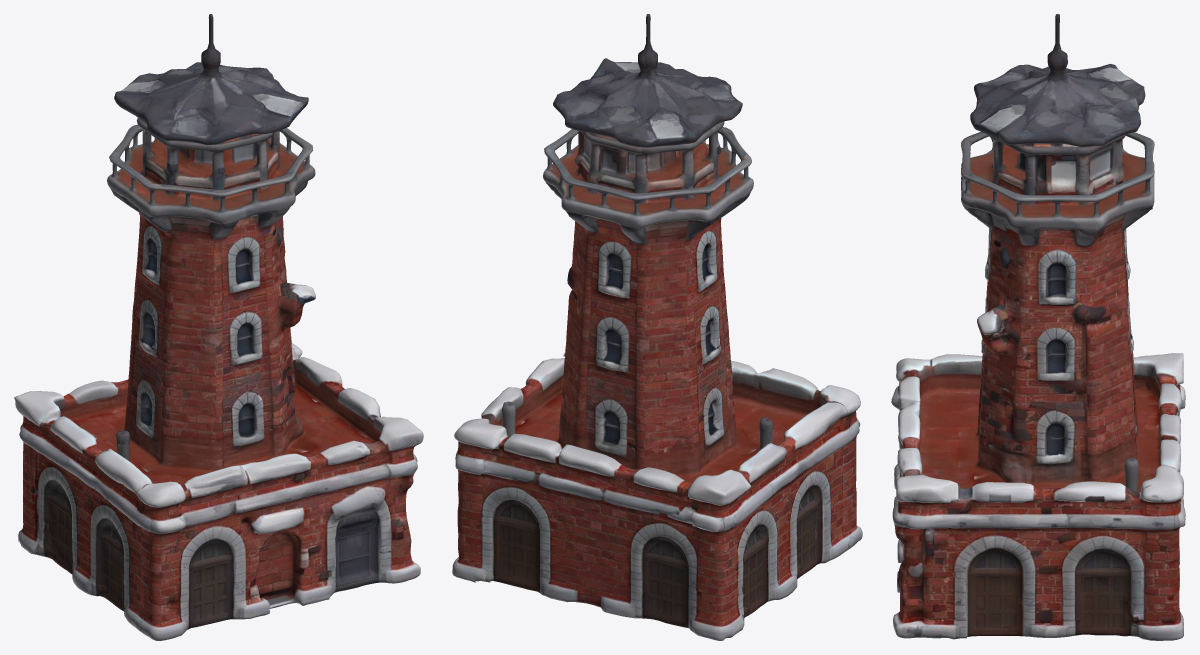
The model's file is tomsk_kalancha.glb.
3 views of the same model, side by side, from view 1: azimuth 30°, elevation 25°; view 2: azimuth 150°, elevation 25°; view 3: azimuth 270°, elevation 25° (orthographic). The views are drawn at different scales.
Visible parts, largest first — view 1: tripo_node_3e45ddb6-eaf2-4898-8434-c7637cadb4a3; view 2: tripo_node_3e45ddb6-eaf2-4898-8434-c7637cadb4a3; view 3: tripo_node_3e45ddb6-eaf2-4898-8434-c7637cadb4a3.
Part boxes in pixels (x1,y1,x2,y2): tripo_node_3e45ddb6-eaf2-4898-8434-c7637cadb4a3: (14, 14, 423, 640); tripo_node_3e45ddb6-eaf2-4898-8434-c7637cadb4a3: (452, 14, 862, 640); tripo_node_3e45ddb6-eaf2-4898-8434-c7637cadb4a3: (891, 14, 1185, 640).
Size of the model in its own units: 0.5213 by 0.9779 by 0.4653.
1 material, 1 textured.
